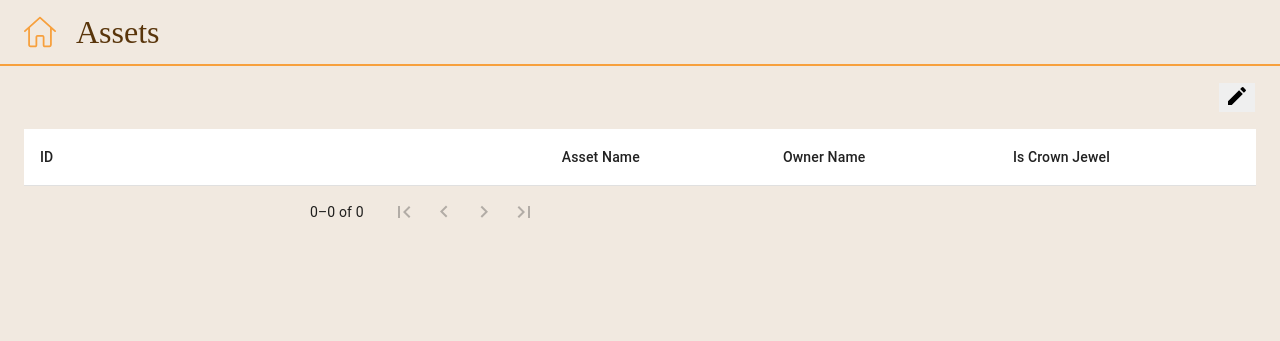
save button appearance
This screenshot has width=1280, height=341.
Click the button named "edit-button" at (1237, 98), box [1218,82,1256,113]
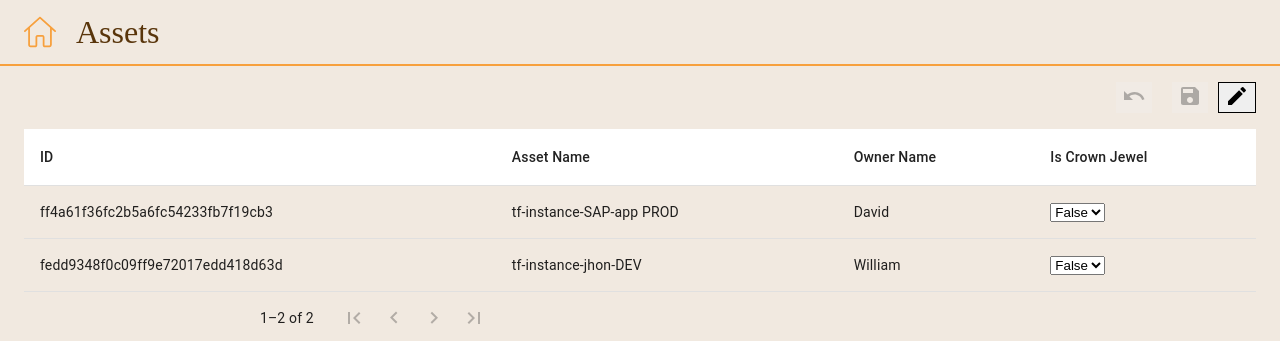
Check: the button named "save-button" is disabled, box [1172,82,1208,113]
Select "True" in the dropdown named "select-ff4a61f36fc2b5a6fc54233fb7f19cb3" at (1078, 212), box [1050,203,1105,222]
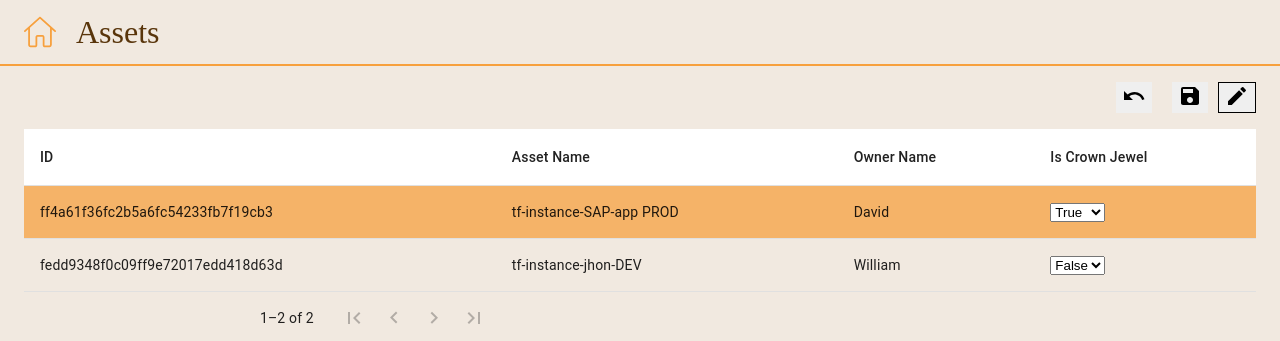
Check: the button named "save-button" is enabled, box [1172,82,1208,113]
Click the button named "undo-button" at (1134, 98), box [1116,82,1152,113]
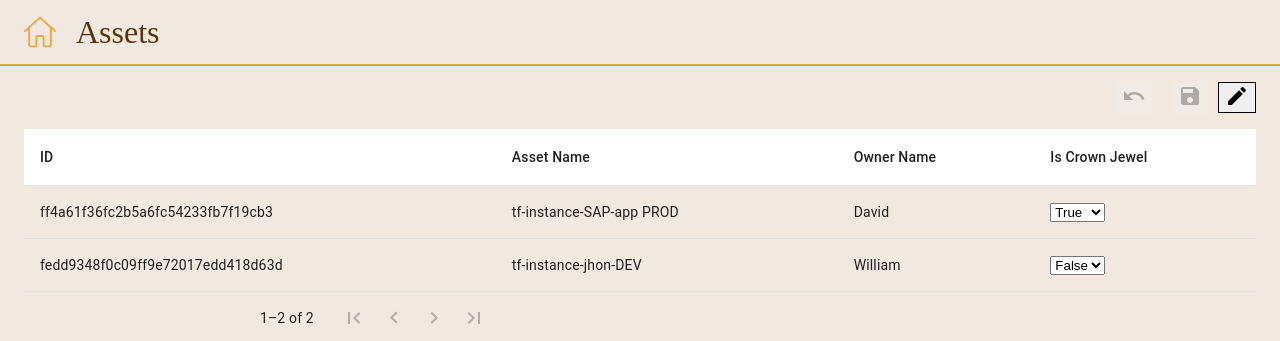
Check: the button named "save-button" is disabled, box [1172,82,1208,113]
